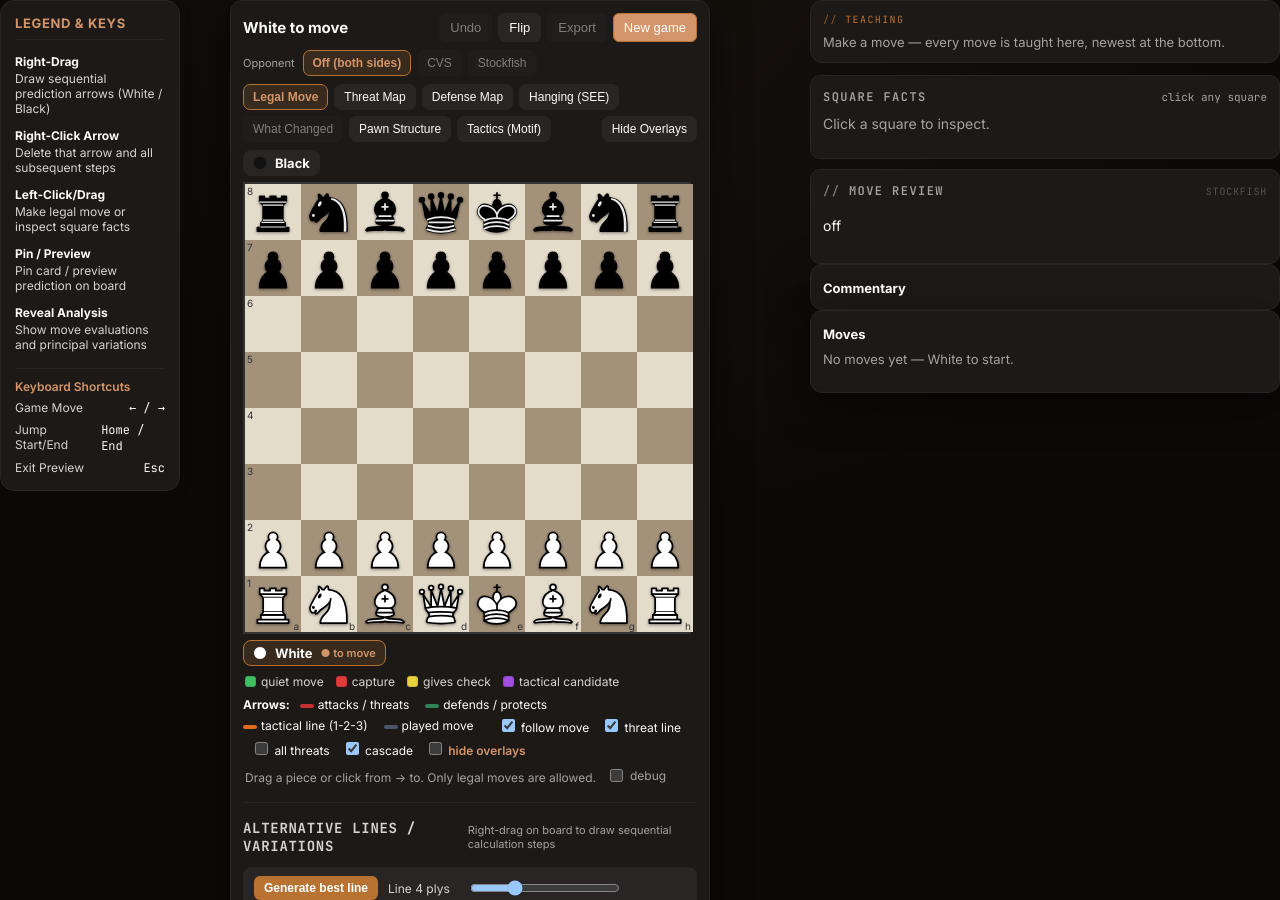
Test case: PlayMode — legal chess › exposes a dev debug overlay (artifact identity + eval status) behind a toggle
What coordinates should you click on to do the following:
click the text "debug"
I would click on:
 (636, 776)
Its box is [606,766,666,785].
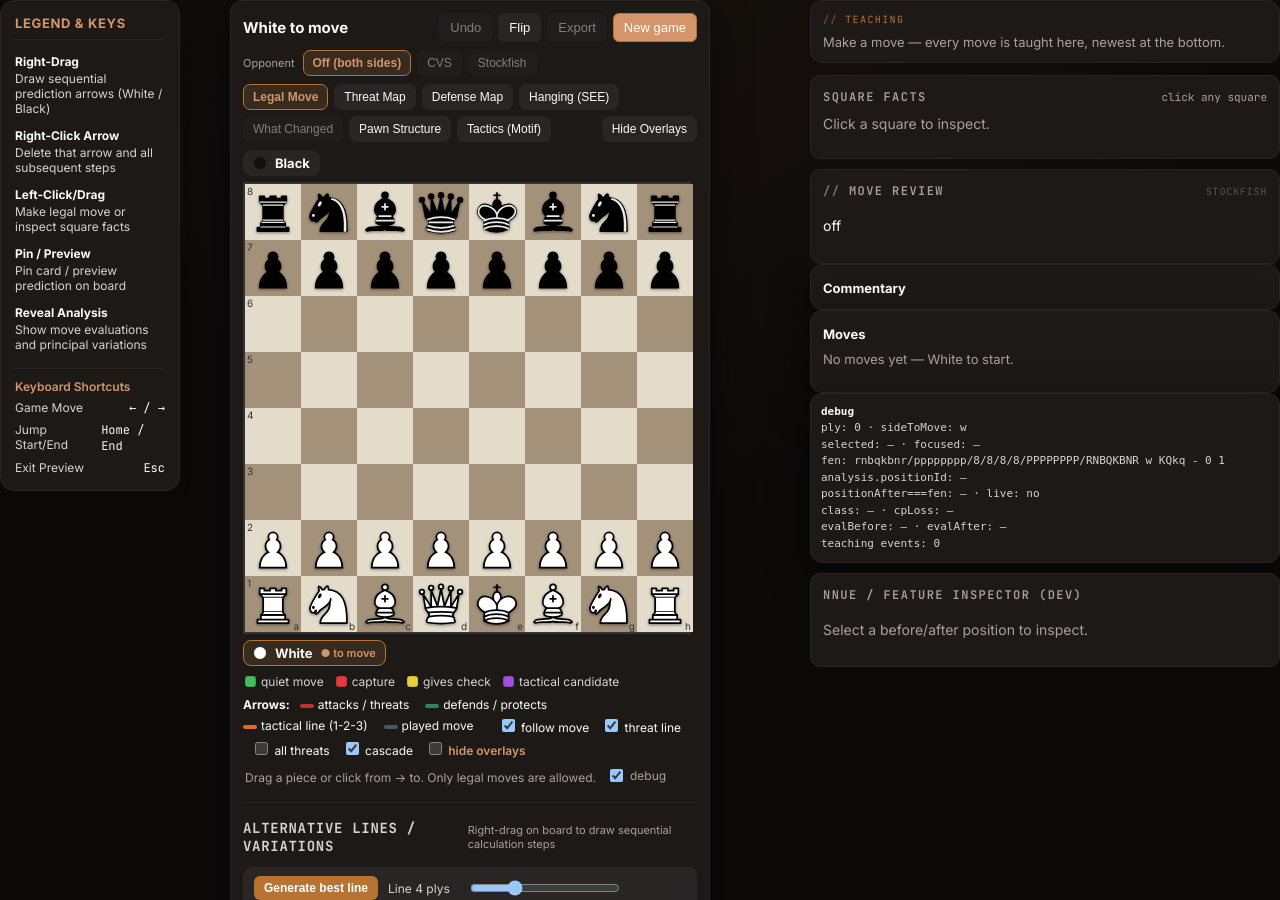
expect the element with test id "debug-overlay" is shown: met, box [810,393,1279,563]
expect the element with test id "debug-overlay" shows "positionAfter===fen": met, box [821,487,954,500]
expect the element with test id "debug-overlay" shows "analysis.positionId": met, box [821,471,960,484]
